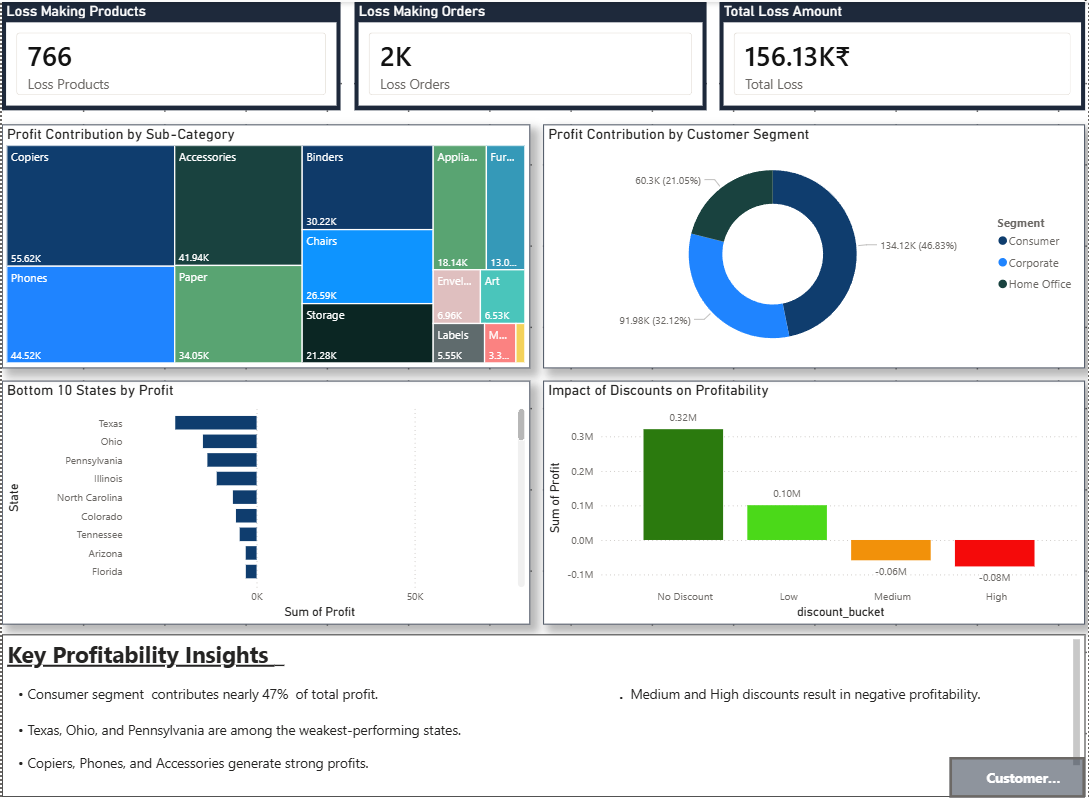

The dashboard page shown, as its layout file describes it:
{"tool":"powerbi","page":{"name":"Profitability Analysis","canvas":[1283,940],"ordinal":1},"visuals":[{"type":"cardVisual","title":"Loss Making Products","fields":{"Data":["engineered_superstore.Loss Products"]},"box":[0,0,400,128],"z":0},{"type":"cardVisual","title":"Loss Making Orders","fields":{"Data":["engineered_superstore.Loss Orders"]},"box":[416,0,416,128],"z":1000},{"type":"cardVisual","title":"Total Loss Amount","fields":{"Data":["engineered_superstore.Total Loss"]},"box":[848,0,432,128],"z":2000},{"type":"clusteredBarChart","title":"Bottom 10 States by Profit","fields":{"Category":["engineered_superstore.State"],"Y":["Sum(engineered_superstore.Profit)"]},"box":[0,448,624,288],"z":3000},{"type":"treemap","title":"Profit Contribution by Sub-Category","fields":{"Group":["engineered_superstore.Sub-Category"],"Values":["Sum(engineered_superstore.Profit)"]},"box":[0,144,624,288],"z":4000},{"type":"clusteredColumnChart","title":"Impact of Discounts on Profitability","fields":{"Category":["engineered_superstore.discount_bucket"],"Y":["Sum(engineered_superstore.Profit)"]},"box":[640,448,640,288],"z":5000},{"type":"donutChart","title":"Profit Contribution by Customer Segment","fields":{"Category":["engineered_superstore.Segment"],"Y":["Sum(engineered_superstore.Profit)"]},"box":[640,144,640,288],"z":6000},{"type":"textbox","box":[0,748,1280,192],"z":7000},{"type":"actionButton","box":[1120,892,160,48],"z":8000}]}

Visuals, with their boxes in screenshot pixels (x1, y1, x2, y2), scaled from the page's 1283x940 canvas onto the 1089x798 screenshot:
"Loss Making Products" cardVisual: detection(0, 0, 340, 109)
"Loss Making Orders" cardVisual: detection(353, 0, 706, 109)
"Total Loss Amount" cardVisual: detection(720, 0, 1086, 109)
"Bottom 10 States by Profit" clusteredBarChart: detection(0, 380, 530, 625)
"Profit Contribution by Sub-Category" treemap: detection(0, 122, 530, 367)
"Impact of Discounts on Profitability" clusteredColumnChart: detection(543, 380, 1086, 625)
"Profit Contribution by Customer Segment" donutChart: detection(543, 122, 1086, 367)
textbox: detection(0, 635, 1086, 797)
actionButton: detection(951, 757, 1086, 797)
